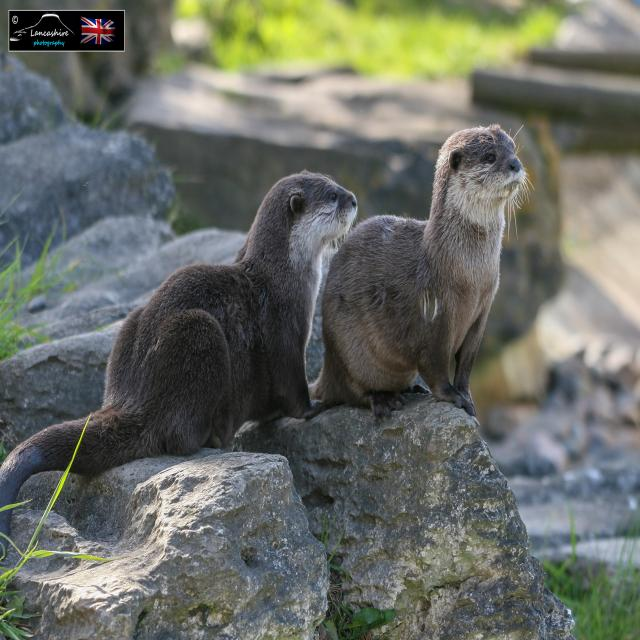otter: (30, 172, 357, 472), (323, 128, 517, 400)
